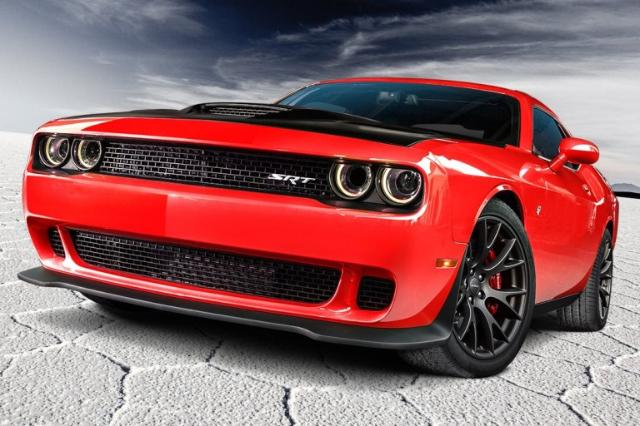dodge: (17, 76, 620, 379)
